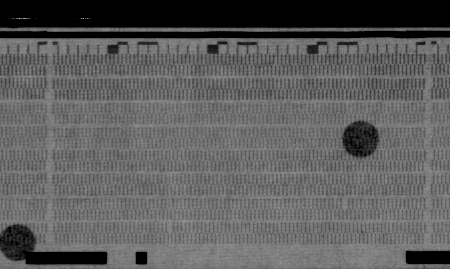Broken hole: (339, 198, 351, 210), (165, 221, 175, 234)
